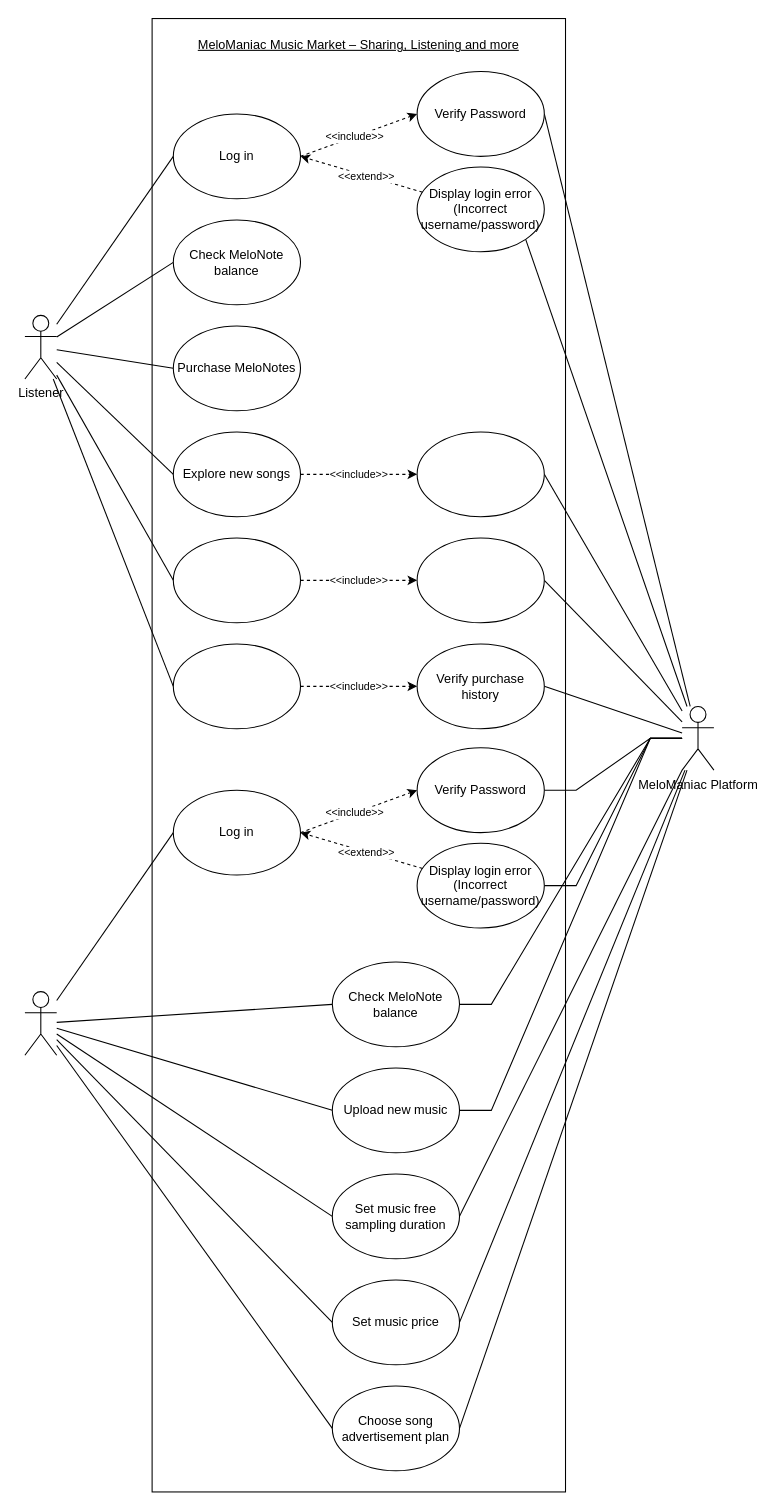
The diagram is 776 pixels wide and 1510 high, and some of its shapes have lost their labels. The shapes that lost their labels are listed below. From the top down, each one's centre as x and y in pixels, then its label:
At pixel 480 474: "Recommend songs based on trend/taste".
At pixel 236 580: "Purchase a song".
At pixel 480 580: "Verify sufficient MeloNote balance".
At pixel 236 686: "Create a colab/playlist".
At pixel 40 1023: "Artist".
